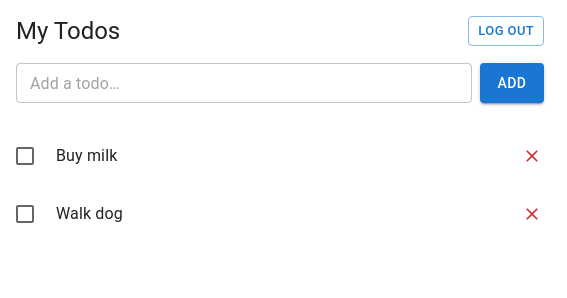
it: TodoList › adds a new todo
This screenshot has width=567, height=298.
Expected: the text "Buy milk" is shown, 56,146 -> 118,165
Type "Read book" into the field with placeholder "Add a todo…".
click(244, 83); type("Read book")  # box 16,63 -> 472,103
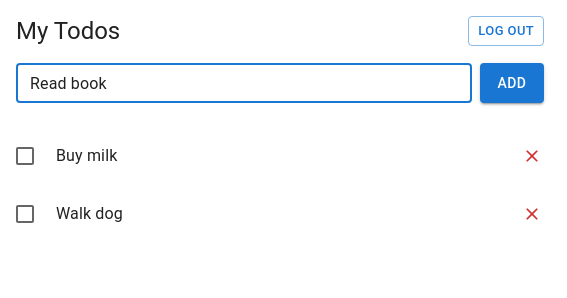
Click the button "Add".
click(512, 83)  # box 480,63 -> 544,103
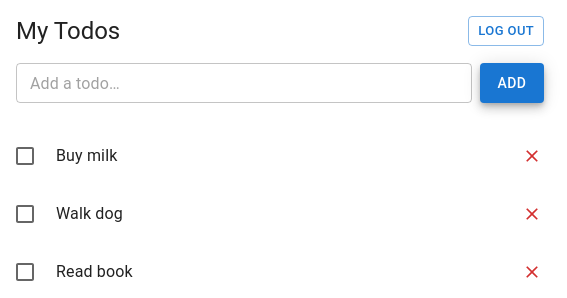
Result: the text "Read book" is shown at 56,262 -> 133,281
